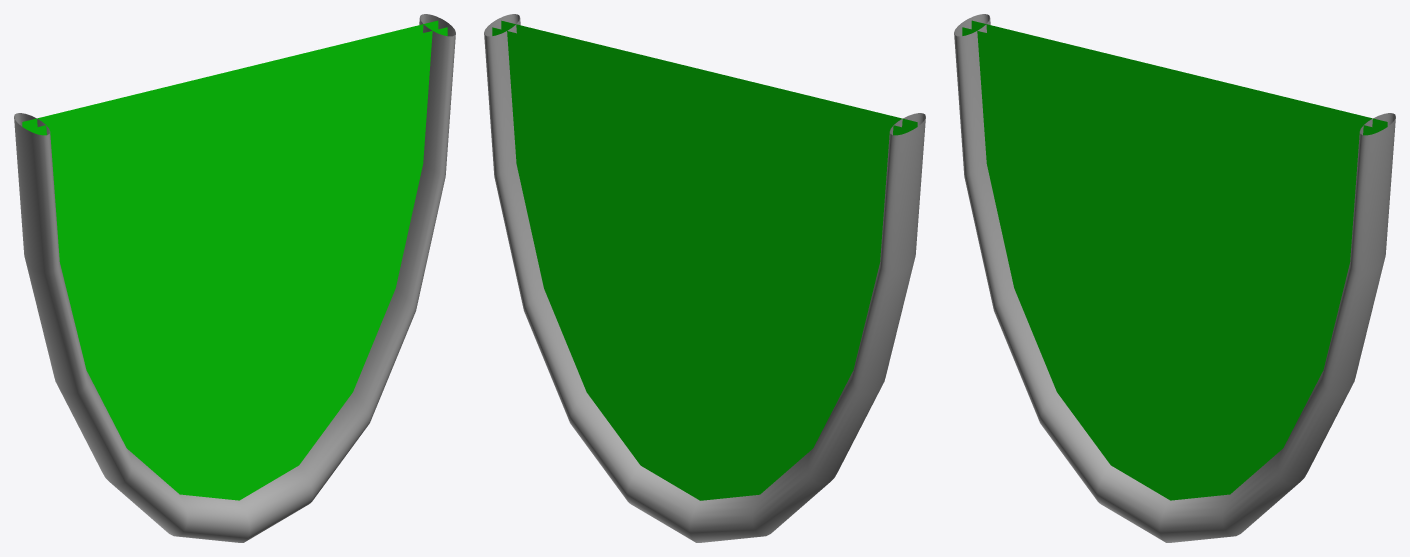
Rendered from portail.fbx.
The picture shows the model from 3 angles, left to right: view 1: azimuth 30°, elevation 25°; view 2: azimuth 150°, elevation 25°; view 3: azimuth 330°, elevation 25°; orthographic projection.
Visible parts, largest first — view 1: Portail; view 2: Portail; view 3: Portail.
Boxes of the visible parts, <box> form: Portail: <box>14,14,455,542</box>; Portail: <box>484,14,925,542</box>; Portail: <box>954,14,1395,542</box>.
Size of the model in its own units: 0.819 by 0.856 by 0.1.
